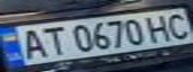0: (66, 21, 93, 53), (124, 16, 148, 46)
6: (90, 19, 112, 51)
7: (106, 17, 127, 48)
A: (12, 26, 51, 61)
C: (160, 10, 193, 40)
H: (142, 11, 178, 43)
T: (36, 25, 69, 56)
